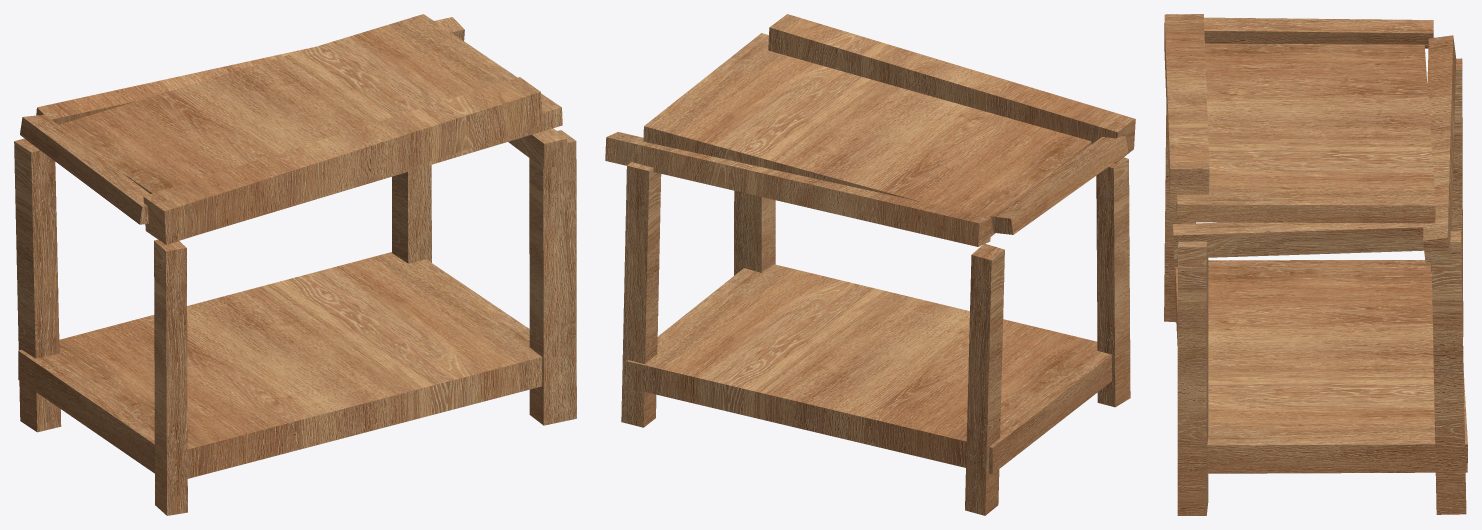
File: 29518_ours.glb
3 renders of one model, left to right at view 1: azimuth 30°, elevation 25°; view 2: azimuth 150°, elevation 25°; view 3: azimuth 270°, elevation 25°, orthographic. The views are drawn at different scales.
Parts seen in each view (by area): view 1: ParentEmpty; view 2: ParentEmpty; view 3: ParentEmpty.
Part boxes in pixels (bbox=[...]): ParentEmpty: bbox=[14, 14, 576, 515]; ParentEmpty: bbox=[605, 14, 1135, 515]; ParentEmpty: bbox=[1164, 14, 1467, 515].
Bounding box in the file's own units: 1 × 0.7558 × 0.6152.
Materials: 1 (1 with a texture image).
